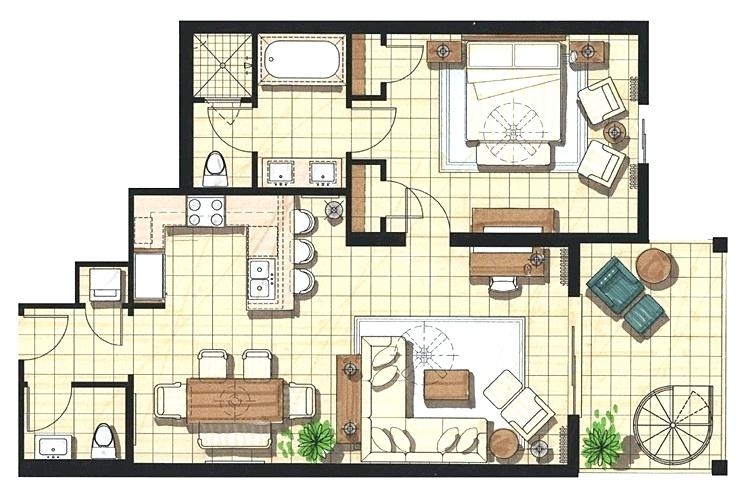door: (353, 103, 408, 157), (24, 388, 76, 434), (203, 104, 255, 150), (26, 308, 70, 361), (402, 188, 452, 230), (388, 40, 429, 89), (82, 308, 127, 348)
room: (380, 20, 649, 245), (346, 233, 580, 475), (178, 19, 354, 197)
